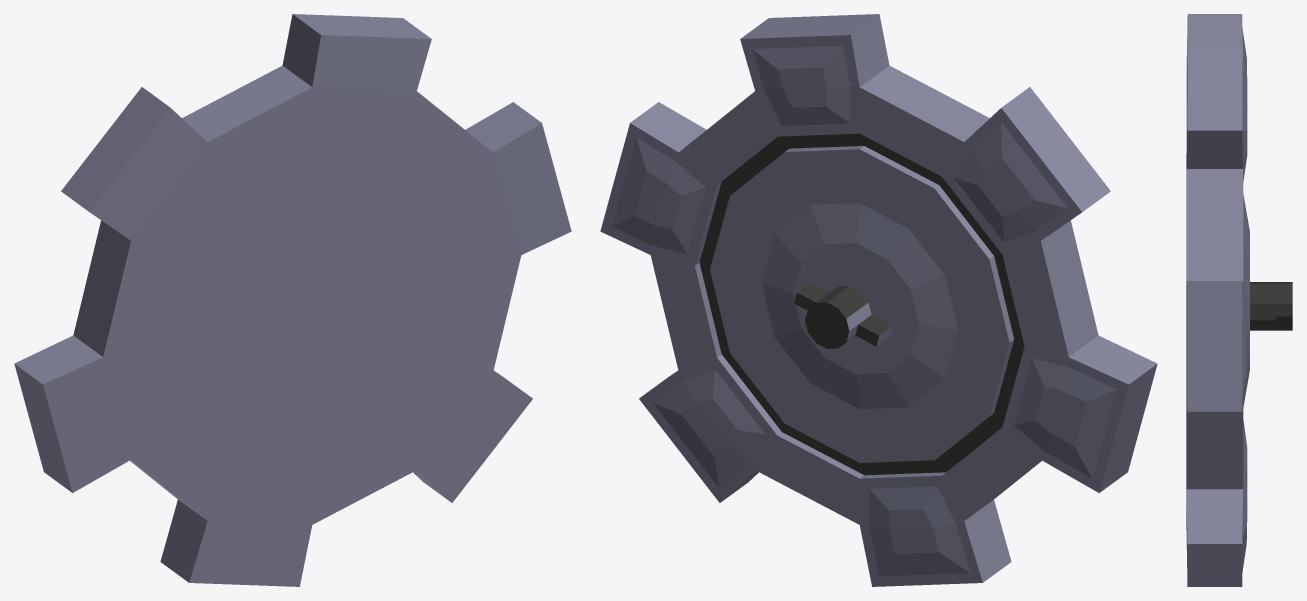
Rendered from towerblockspeedCOG.fbx.
3 views of the same model, side by side, from view 1: azimuth 30°, elevation 25°; view 2: azimuth 150°, elevation 25°; view 3: azimuth 270°, elevation 25° (orthographic). The views are drawn at different scales.
Visible parts, largest first — view 1: Cylinder.001; view 2: Cylinder.001; view 3: Cylinder.001.
Part boxes in pixels (x1=…): Cylinder.001: x1=14, y1=14, x2=571, y2=586; Cylinder.001: x1=600, y1=14, x2=1157, y2=586; Cylinder.001: x1=1186, y1=14, x2=1292, y2=586.
Bounding box in the file's own units: 56.8 × 56.14 × 10.36.
